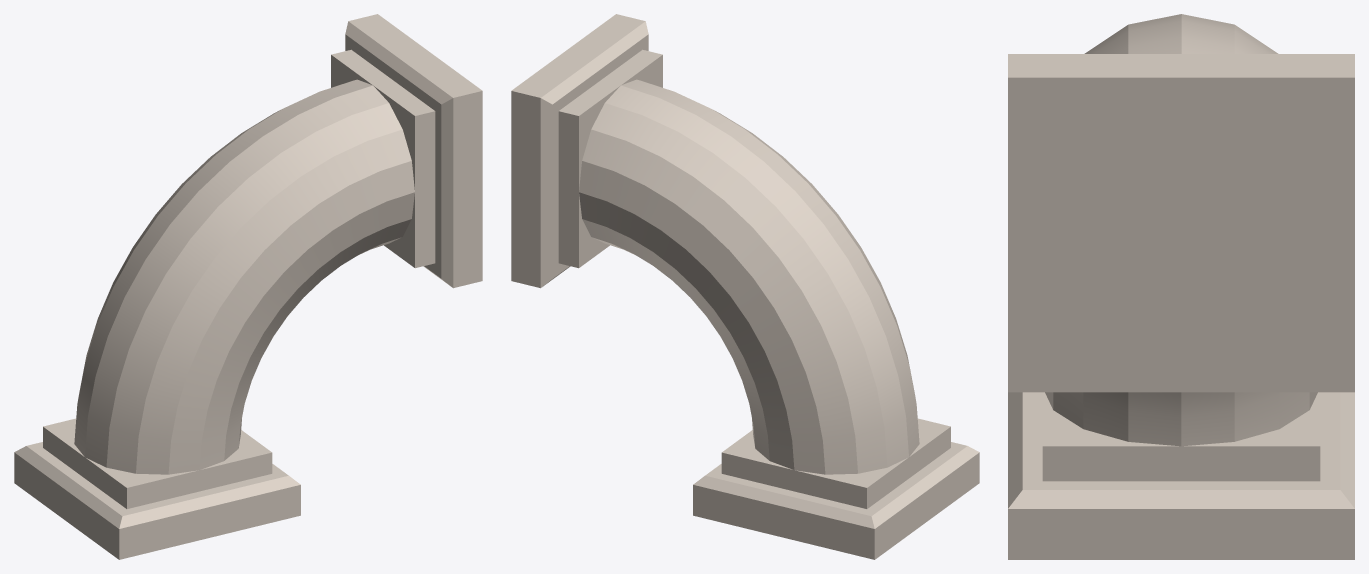
File: HautGaucheV1.fbx
3 renders of one model, left to right at view 1: azimuth 30°, elevation 25°; view 2: azimuth 150°, elevation 25°; view 3: azimuth 270°, elevation 25°, orthographic. The views are drawn at different scales.
Visible parts, largest first — view 1: group_0.011; view 2: group_0.011; view 3: group_0.011.
Boxes of the visible parts, <box> form: group_0.011: <box>14,14,482,559</box>; group_0.011: <box>511,14,979,559</box>; group_0.011: <box>1008,14,1354,559</box>.
Size of the model in its own units: 7874 by 7874 by 3937.
